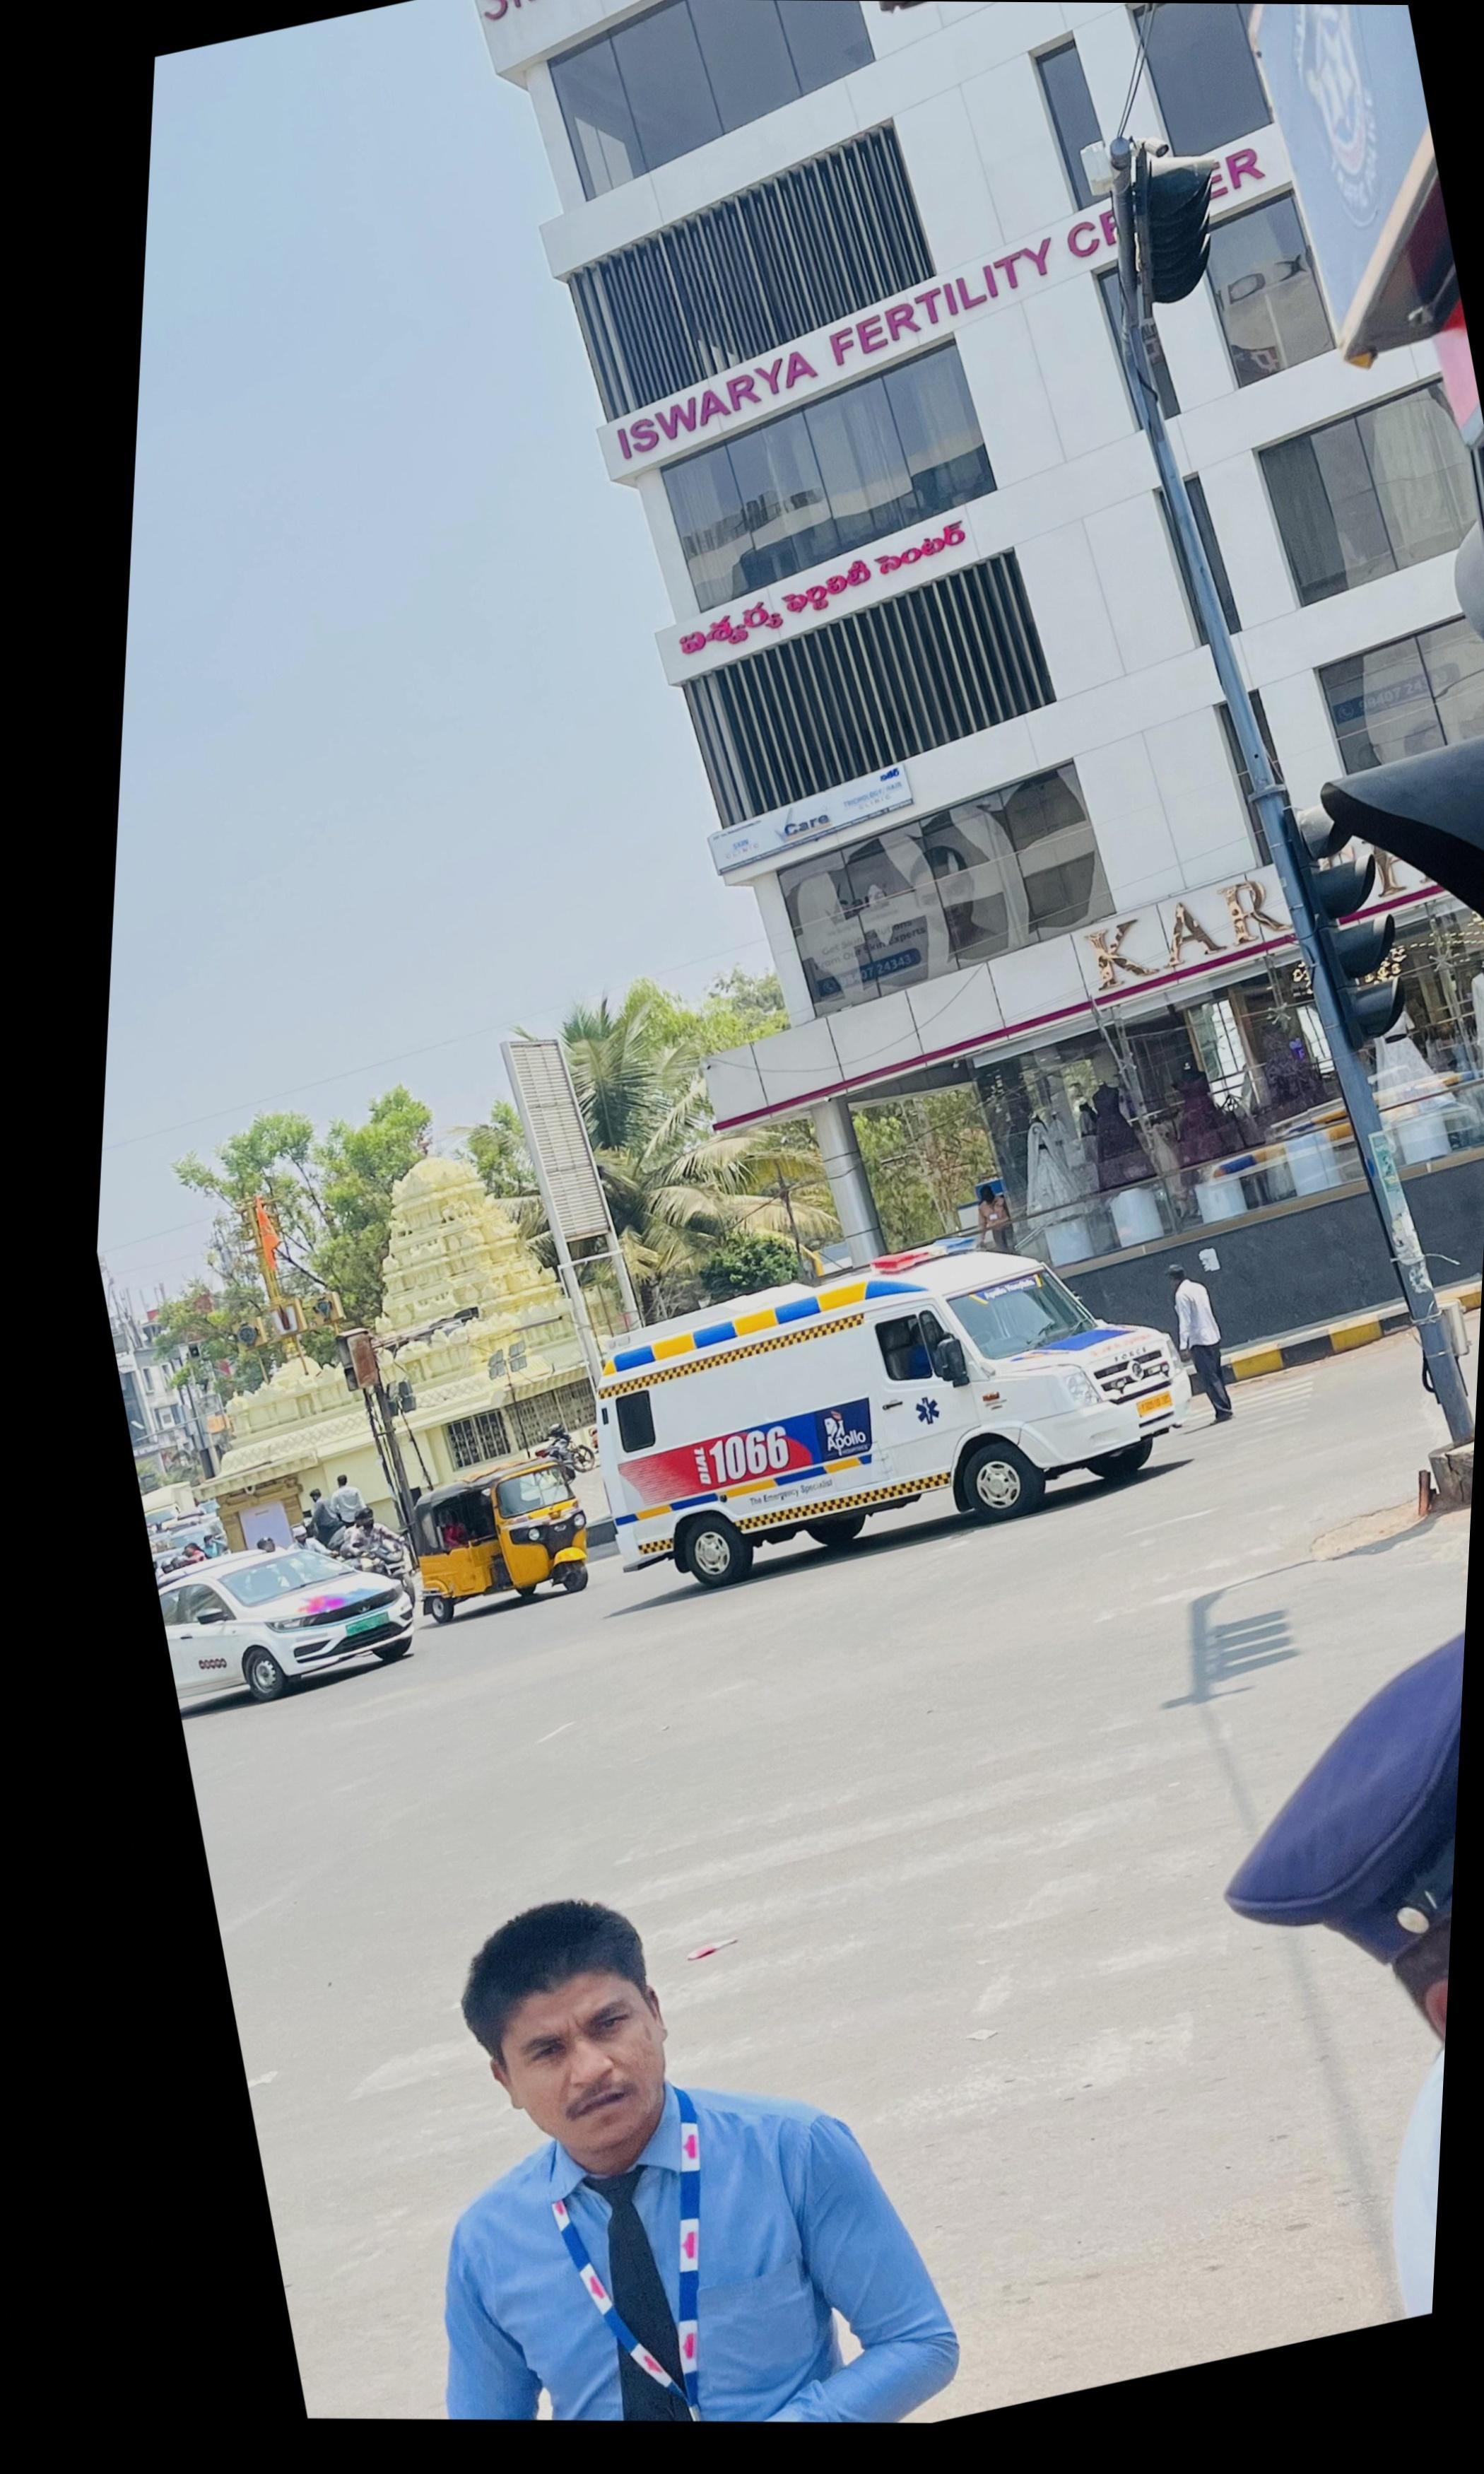ambulance: (601, 1233, 1194, 1587)
